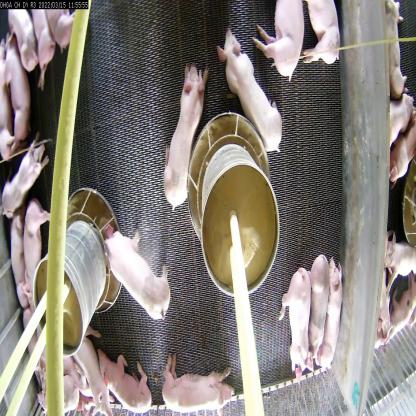Pig: (215, 24, 284, 158), (102, 221, 172, 326), (164, 63, 209, 215), (157, 349, 236, 415), (0, 134, 49, 224), (281, 265, 316, 386), (98, 342, 155, 415), (12, 200, 48, 304), (0, 27, 30, 145), (312, 247, 334, 379), (324, 258, 347, 370)
